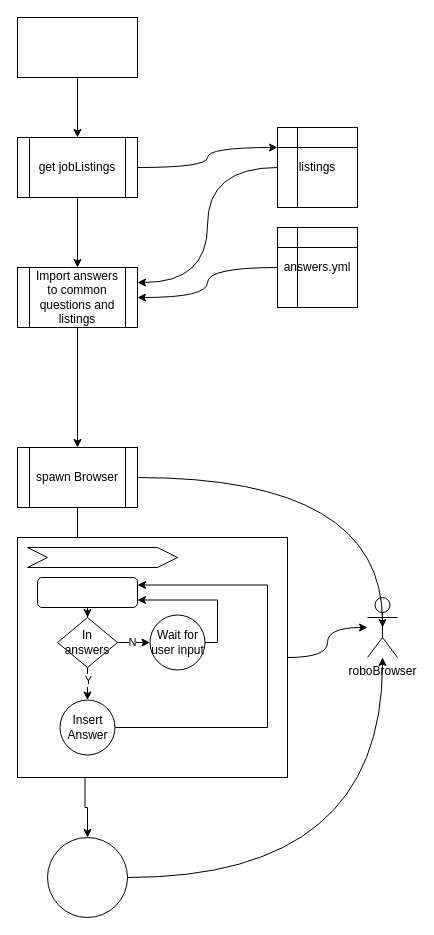
This 434x935 diagram has some shape labels left out. Here are the shapes that lost their labels. From the top down, the centre of each, then its label:
point 77,47: start
point 102,557: Get Page Content
point 87,592: start for loop for questions
point 87,877: Submit application
